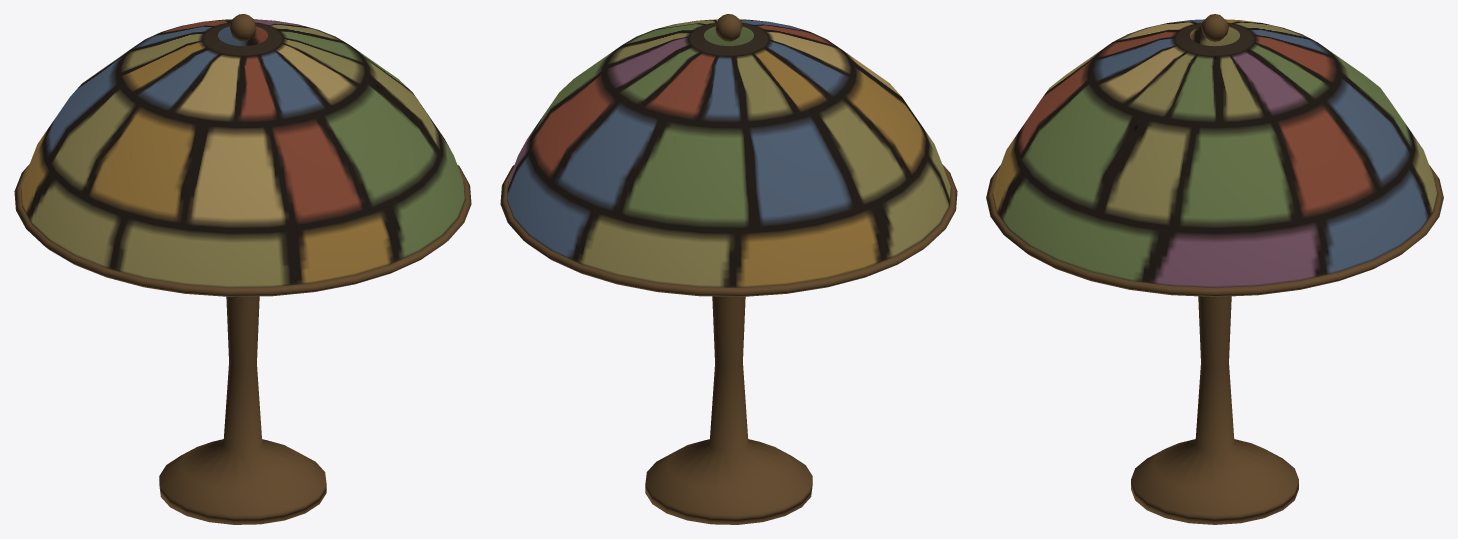
The model's file is lamp-sofa.glb.
3 views of the same model, side by side, from view 1: azimuth 30°, elevation 25°; view 2: azimuth 150°, elevation 25°; view 3: azimuth 270°, elevation 25° (orthographic).
Parts seen in each view (by area): view 1: lamp-sofa; view 2: lamp-sofa; view 3: lamp-sofa.
Boxes of the visible parts, <box> form: lamp-sofa: <box>14,14,471,524</box>; lamp-sofa: <box>500,14,957,524</box>; lamp-sofa: <box>986,14,1443,524</box>.
Bounding box in the file's own units: 1.64 × 1.87 × 1.64.
Materials: 3 (1 with a texture image).
